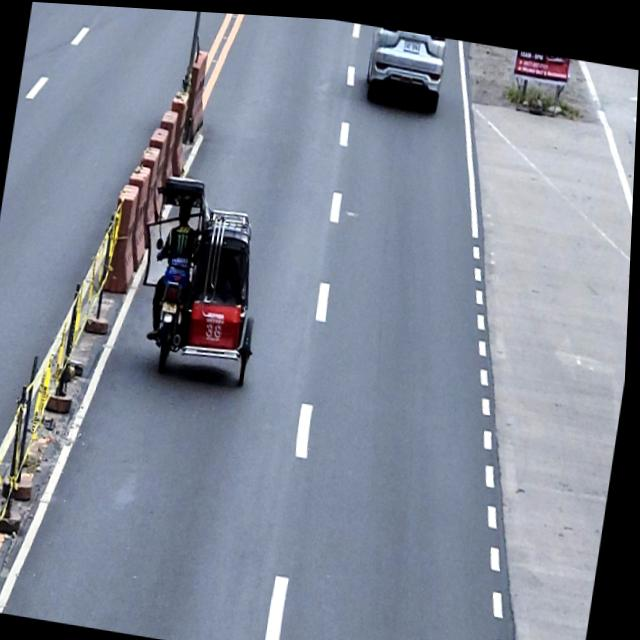Car: (361, 20, 450, 112)
License-Plate: (400, 33, 423, 49), (162, 297, 181, 312)
Tricycle: (128, 168, 279, 390)
